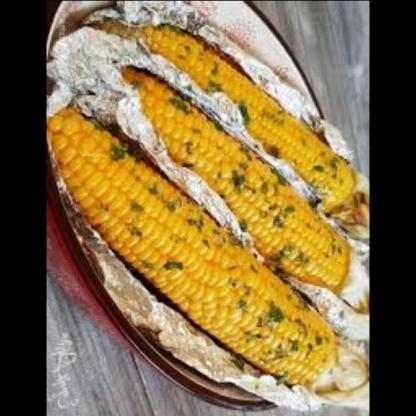corn: (48, 101, 343, 385), (115, 62, 358, 288), (140, 10, 370, 210)
